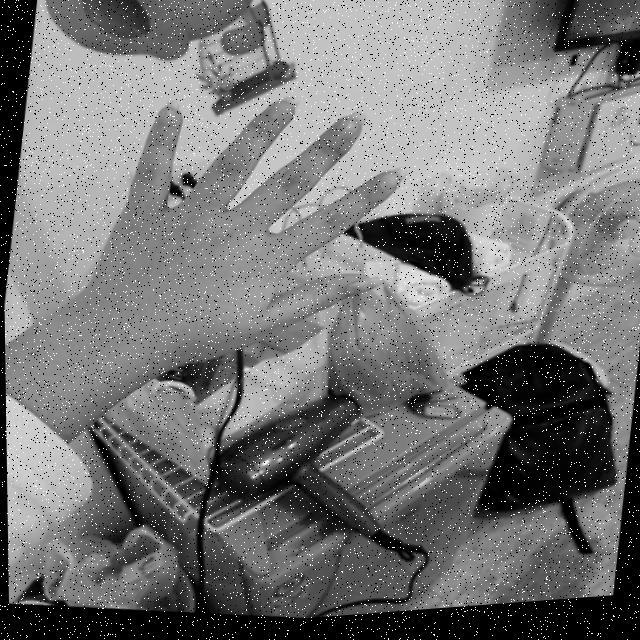no-gloves: (71, 69, 418, 399)
